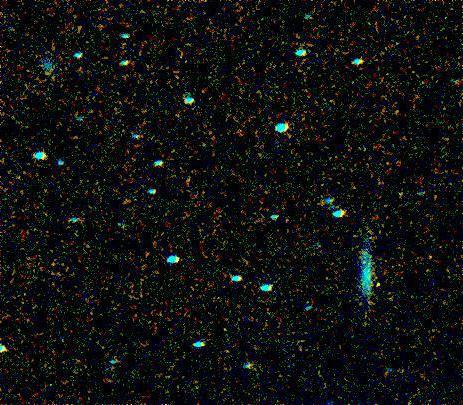star: (360, 270, 390, 300)
